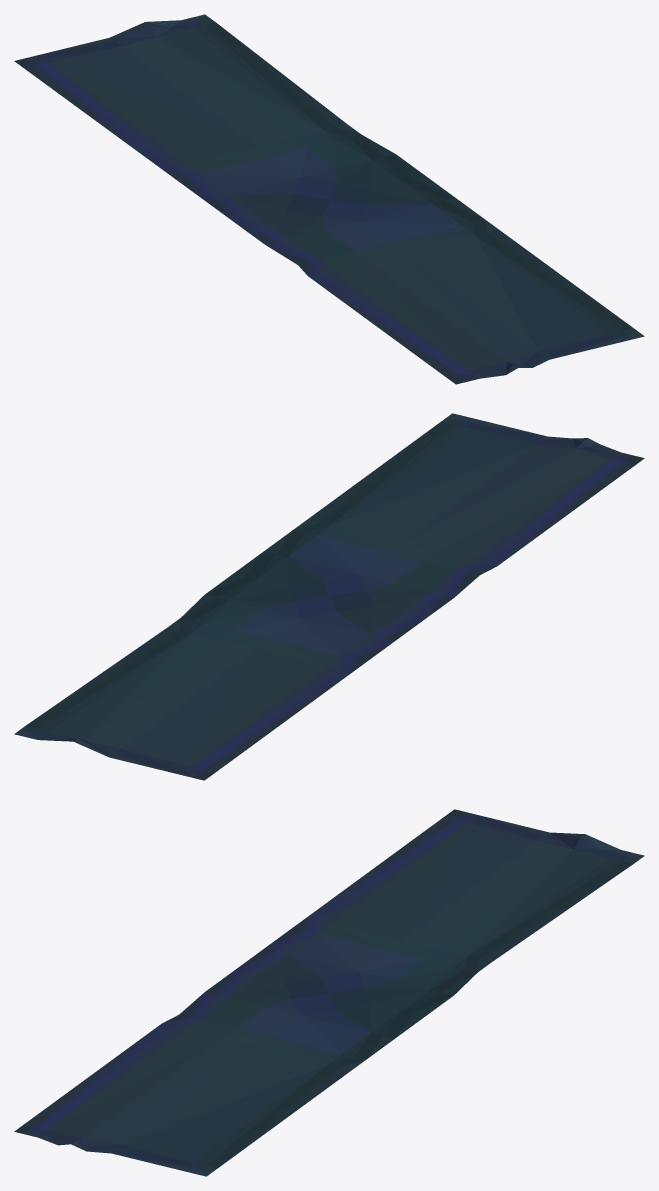
Rendered from prop_decor_rug_runner_2.fbx.
The picture shows the model from 3 angles, top to bottom: view 1: azimuth 30°, elevation 25°; view 2: azimuth 150°, elevation 25°; view 3: azimuth 330°, elevation 25°; orthographic projection.
Parts seen in each view (by area): view 1: prop_decor_rug_runner_2; view 2: prop_decor_rug_runner_2; view 3: prop_decor_rug_runner_2.
Boxes of the visible parts, bbox=[...] form: prop_decor_rug_runner_2: bbox=[14, 14, 644, 384]; prop_decor_rug_runner_2: bbox=[14, 413, 644, 780]; prop_decor_rug_runner_2: bbox=[14, 809, 644, 1176].
Bounding box in the file's own units: 1.5 × 0.0531 × 6.05.
